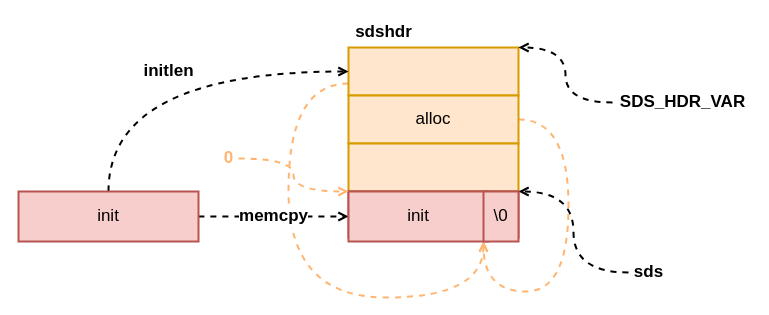
This 769x315 diagram has some shape labels left out. The centre of each missing label's shape, as x and y in pixels:
flags: point 433,167
len: point 433,71
